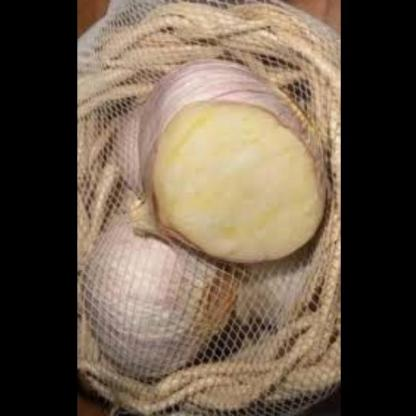garlic: (136, 63, 318, 265), (79, 211, 247, 391)
